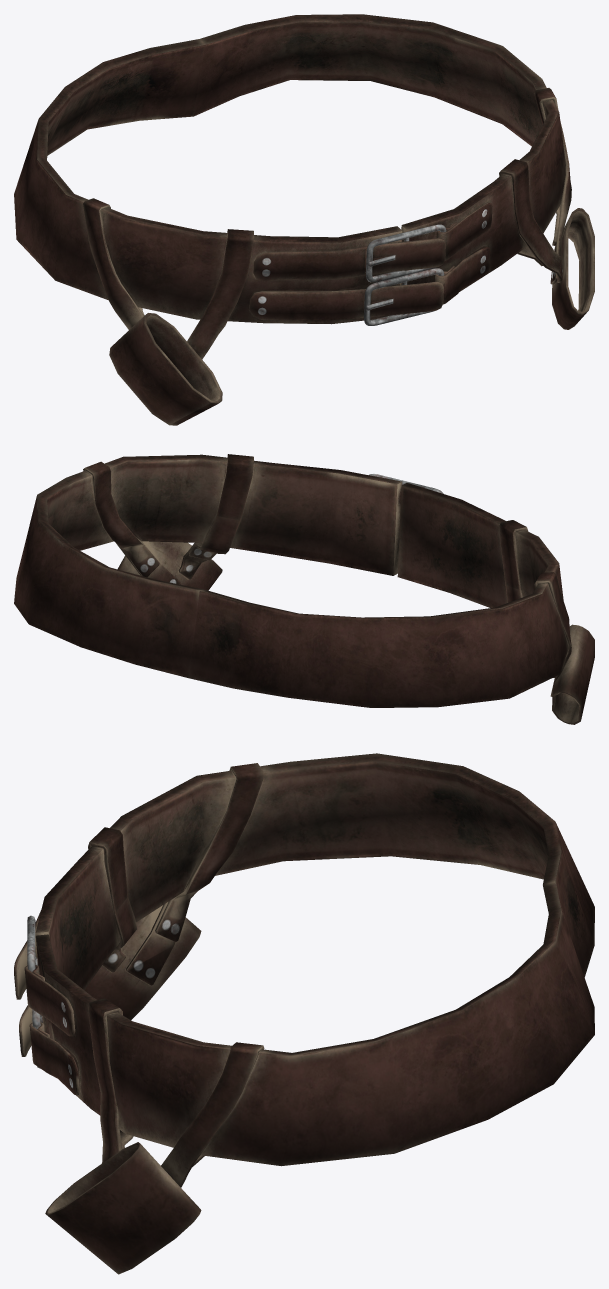
Rendered from belt.glb.
3 views of the same model, one above another, from view 1: azimuth 30°, elevation 25°; view 2: azimuth 150°, elevation 25°; view 3: azimuth 270°, elevation 25° (orthographic). The views are drawn at different scales.
Visible parts, largest first — view 1: Belt; view 2: Belt; view 3: Belt.
Boxes of the visible parts, x1,y1,x2,y2 form: Belt: [14, 14, 594, 425]; Belt: [14, 454, 594, 724]; Belt: [14, 753, 594, 1274].
Bounding box in the file's own units: 1.87 × 0.7543 × 1.47.
1 material, 1 textured.
